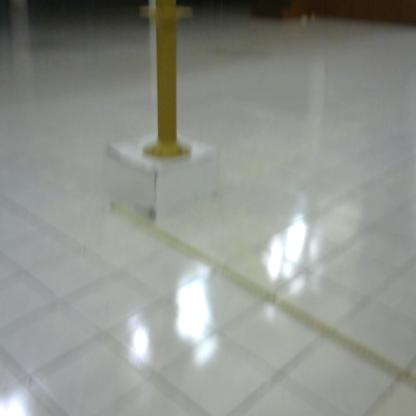pole: (136, 1, 201, 178)
